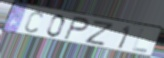0: (46, 14, 66, 37)
1: (117, 26, 132, 50)
C: (24, 10, 44, 34)
L: (131, 28, 149, 54)
P: (62, 15, 91, 42)
Z: (84, 19, 116, 47)
